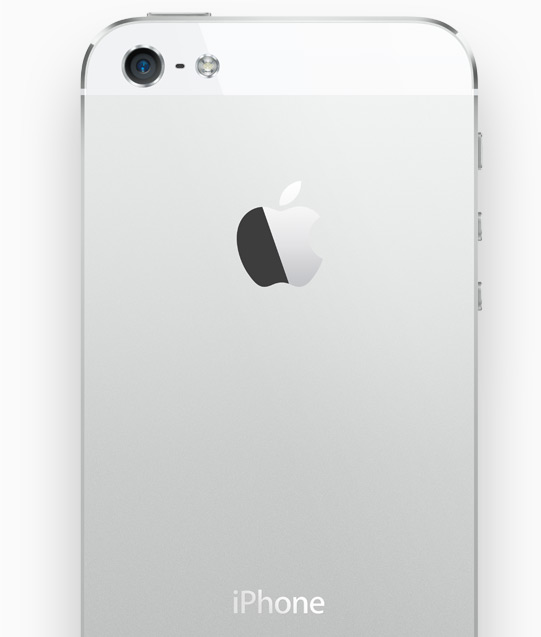Apple: (228, 164, 337, 294), (221, 577, 336, 625)
